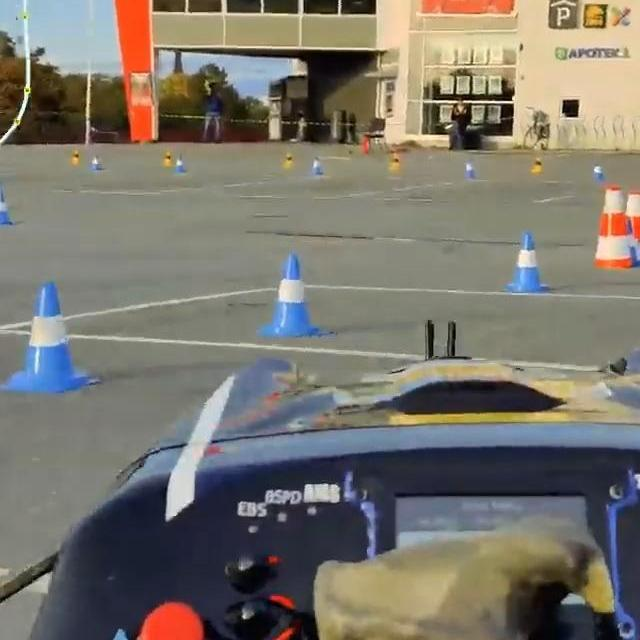Safety Cone: (0, 278, 92, 391), (257, 251, 321, 338), (593, 187, 632, 271), (505, 231, 548, 297), (625, 188, 640, 270), (618, 216, 640, 269), (0, 194, 15, 229), (463, 159, 481, 181), (531, 153, 545, 173), (310, 157, 323, 177), (389, 153, 402, 172), (282, 153, 295, 171), (162, 150, 175, 167), (70, 149, 81, 168), (0, 179, 6, 212), (592, 164, 603, 182), (175, 155, 185, 173), (92, 154, 102, 170)
vehicle: (0, 322, 640, 640)
